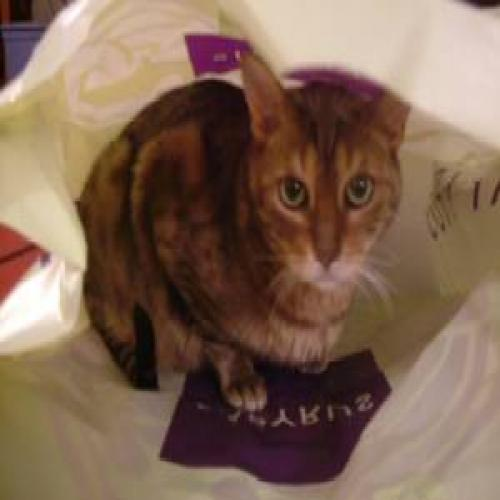bengal: (235, 43, 415, 304)
